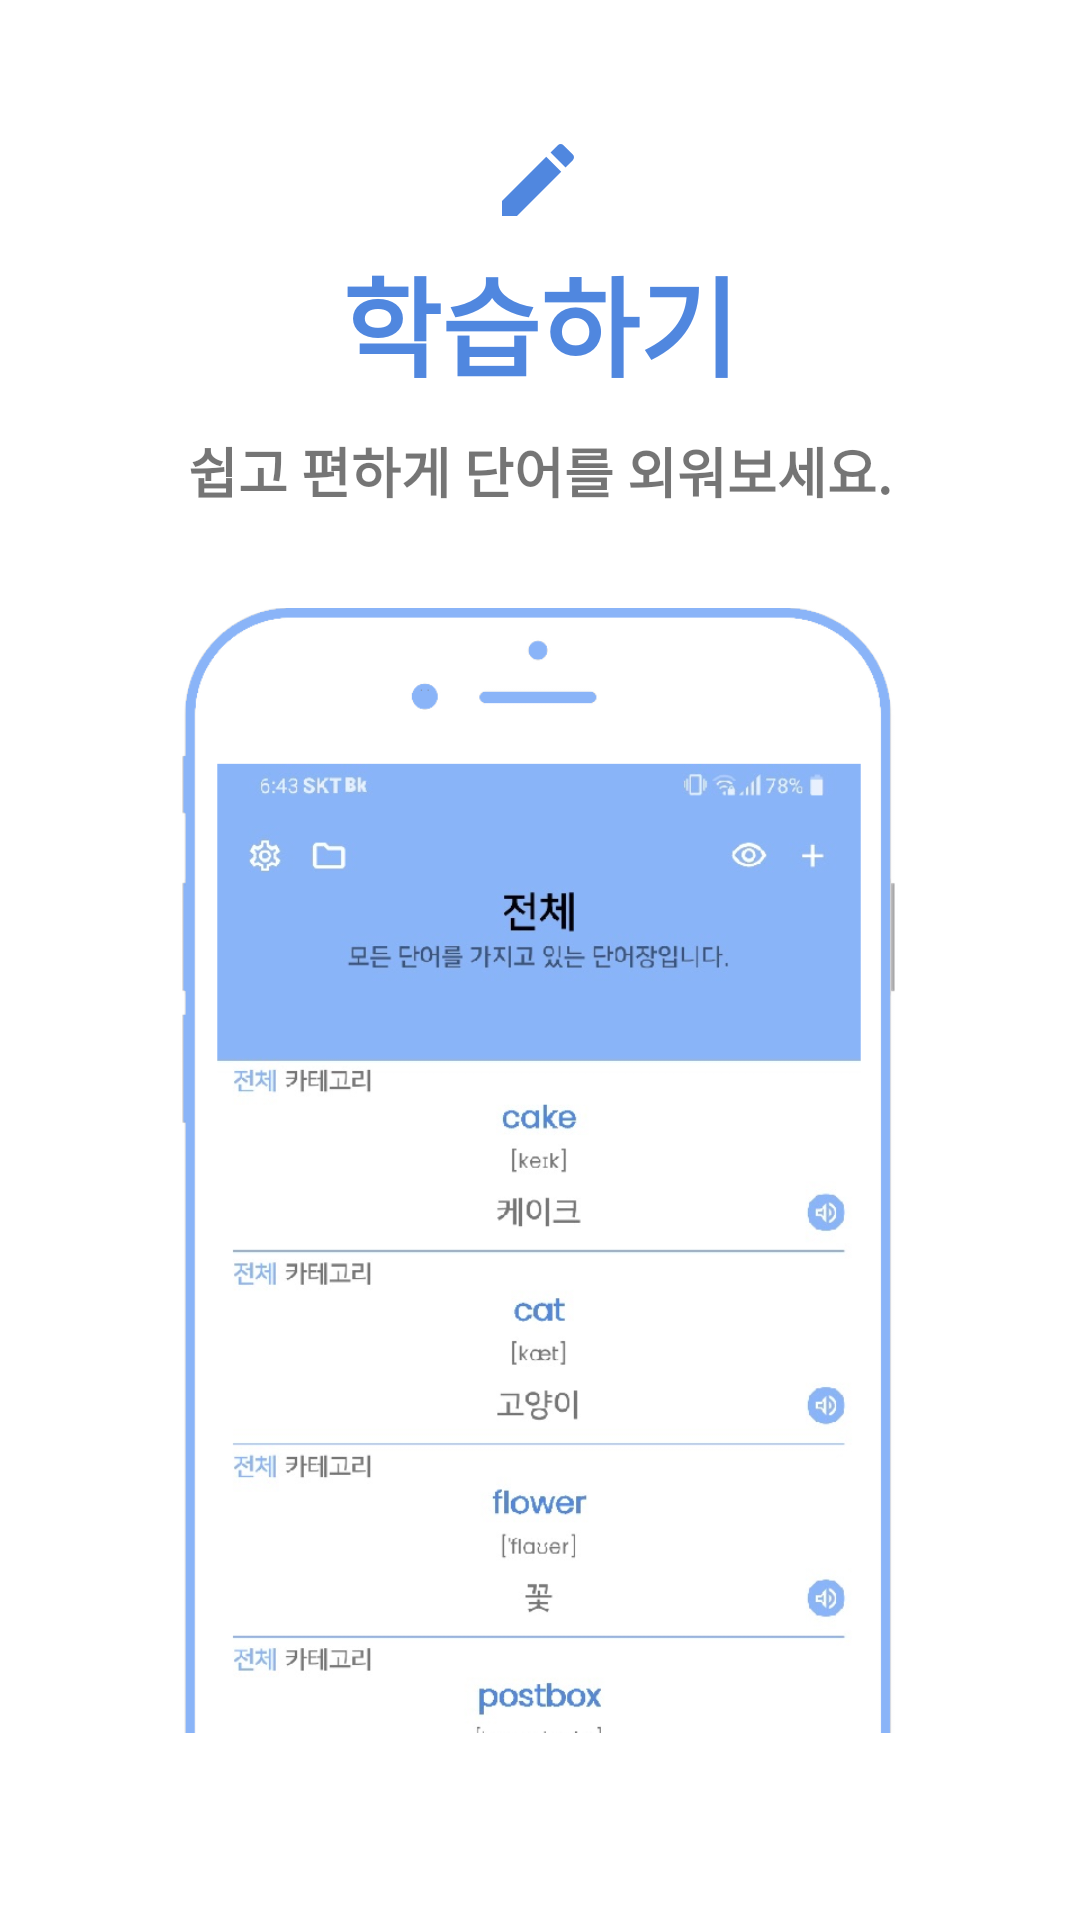

Icons on this 1080x1920 Android screen, each with its box as rect(x1, y1, x2, y2):
edit: rect(502, 144, 574, 216)
